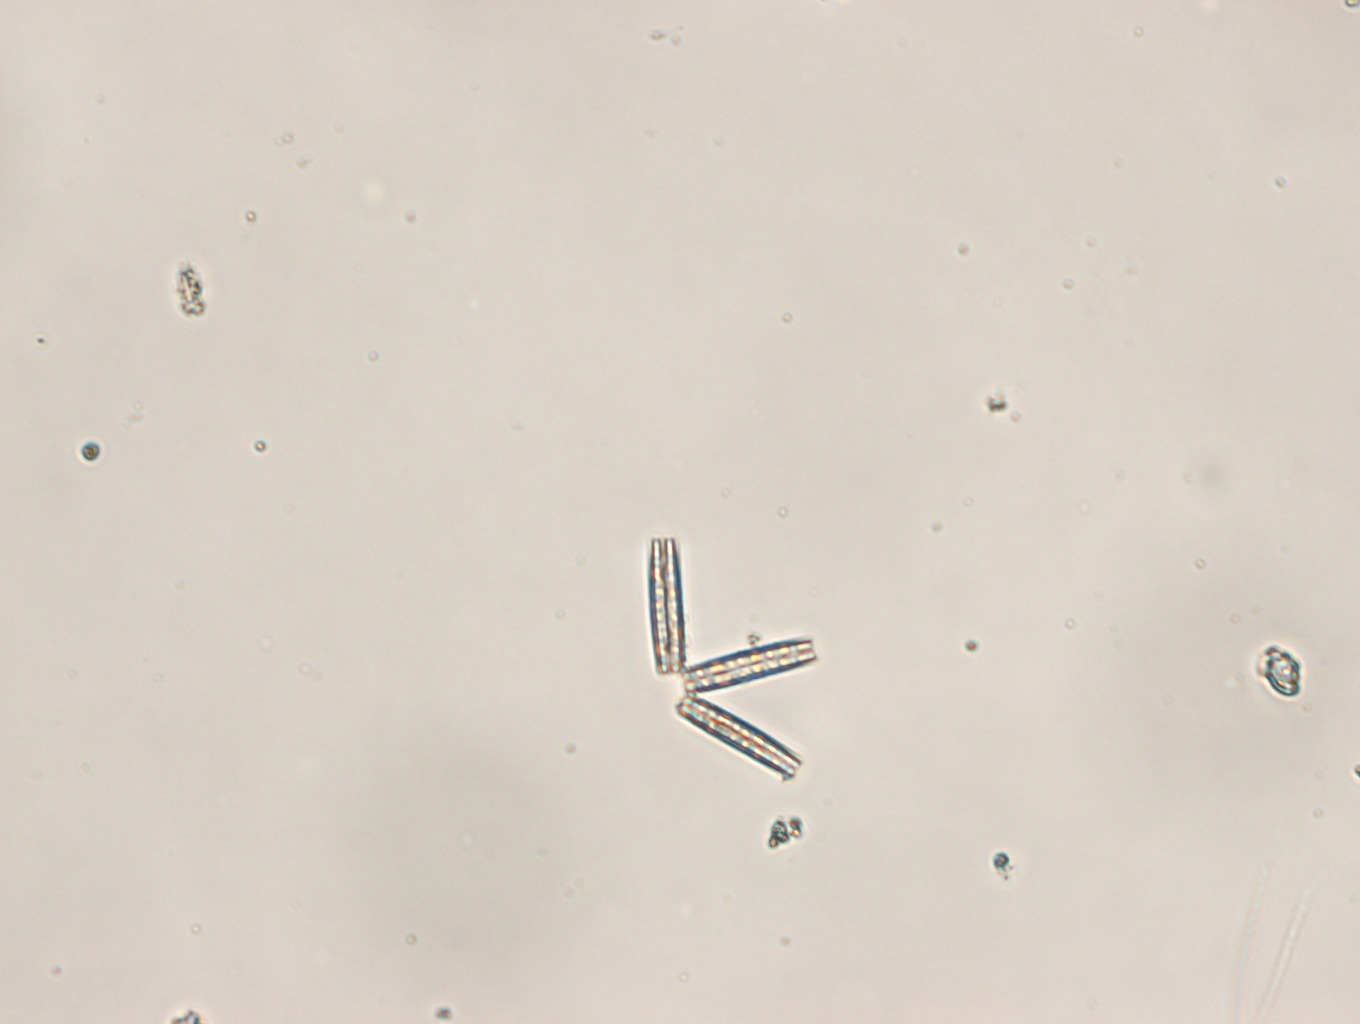thalassionema nitzschioides: (646, 534, 818, 779)
